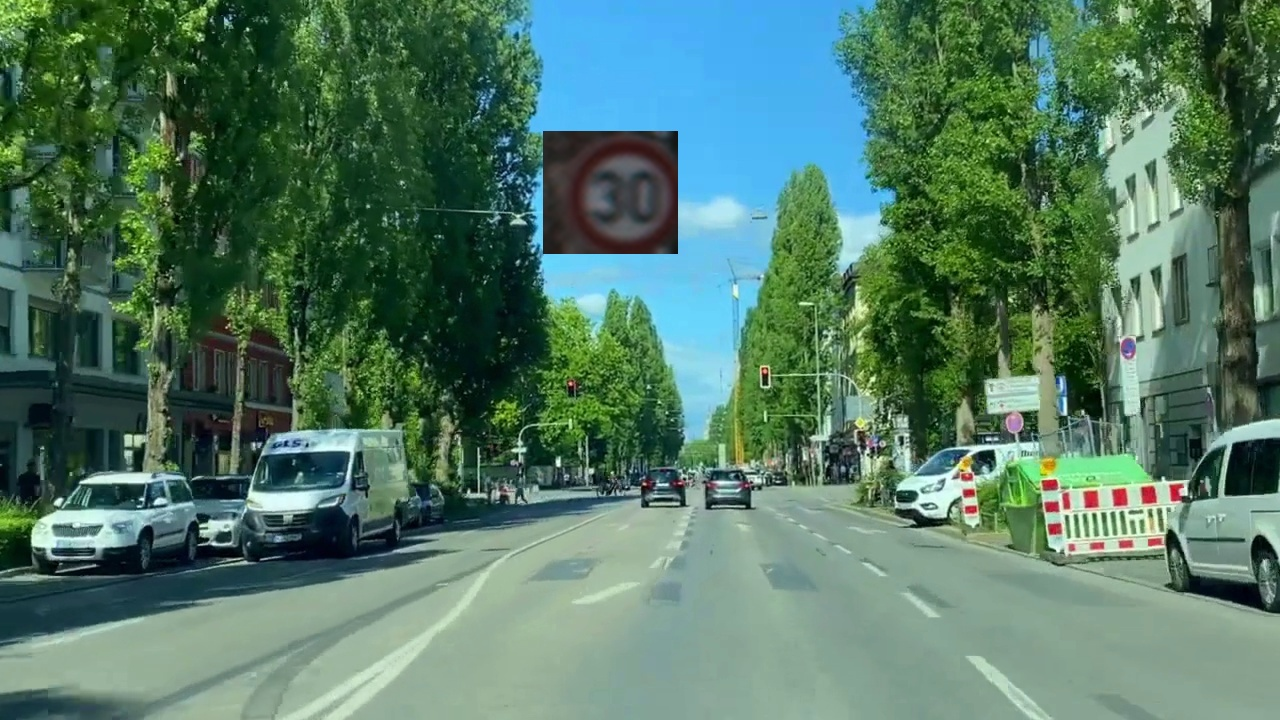Speed 30: (543, 131, 678, 254)
